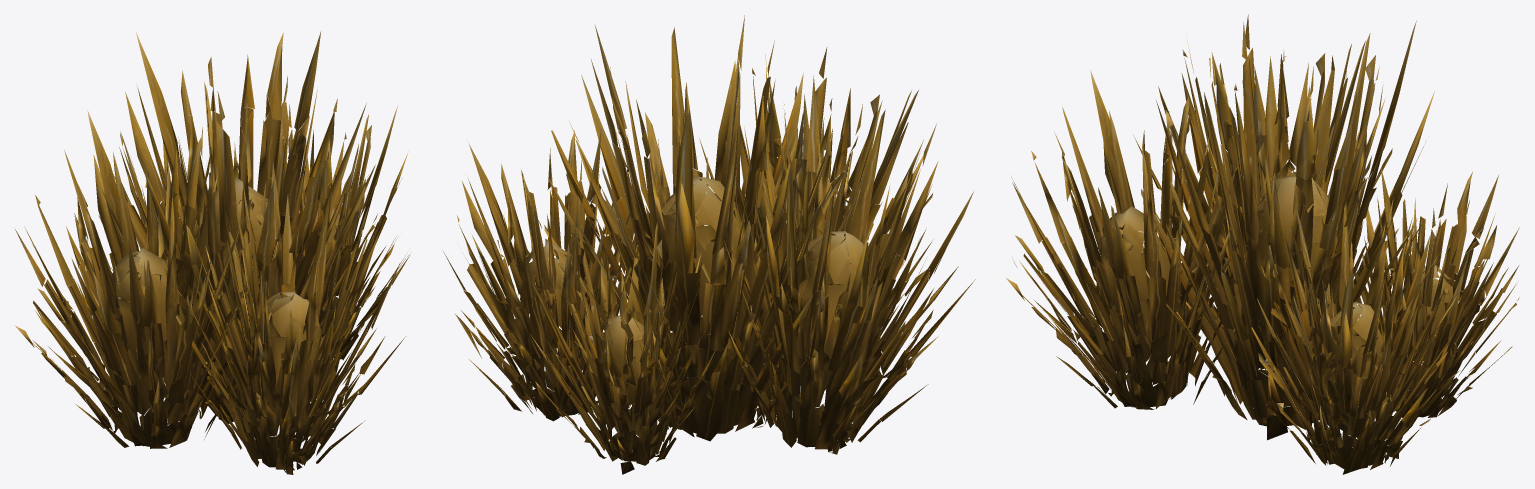
Rendered from desert_grass_blades_bush.glb.
3 renders of one model, left to right at view 1: azimuth 30°, elevation 25°; view 2: azimuth 150°, elevation 25°; view 3: azimuth 270°, elevation 25°, orthographic. The views are drawn at different scales.
Visible parts, largest first — view 1: desert_grass_blades_bush; view 2: desert_grass_blades_bush; view 3: desert_grass_blades_bush.
Part boxes in pixels (x1,y1,x2,y2): desert_grass_blades_bush: (15, 31, 410, 474); desert_grass_blades_bush: (443, 15, 975, 474); desert_grass_blades_bush: (1006, 14, 1519, 474).
Size of the model in its own units: 0.9902 by 0.8039 by 0.9921.
1 material, 1 textured.
